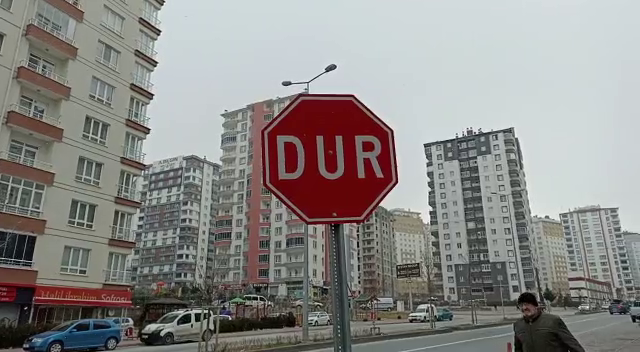stop: (259, 92, 400, 227)
